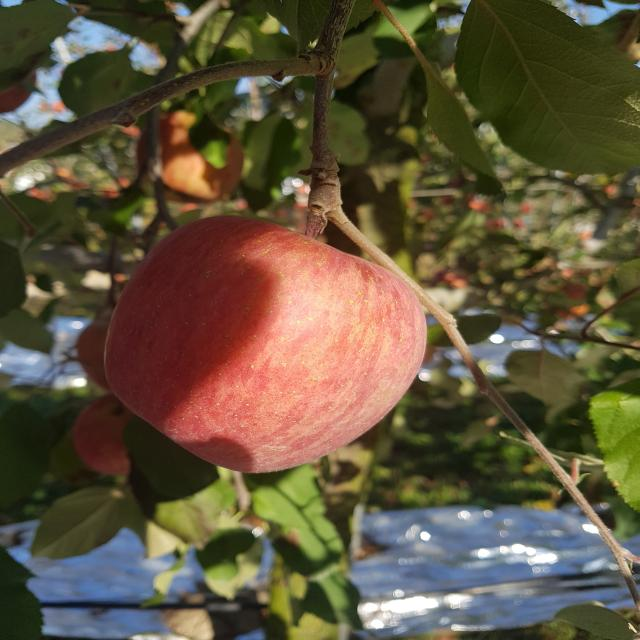fresh: (88, 203, 442, 486)
